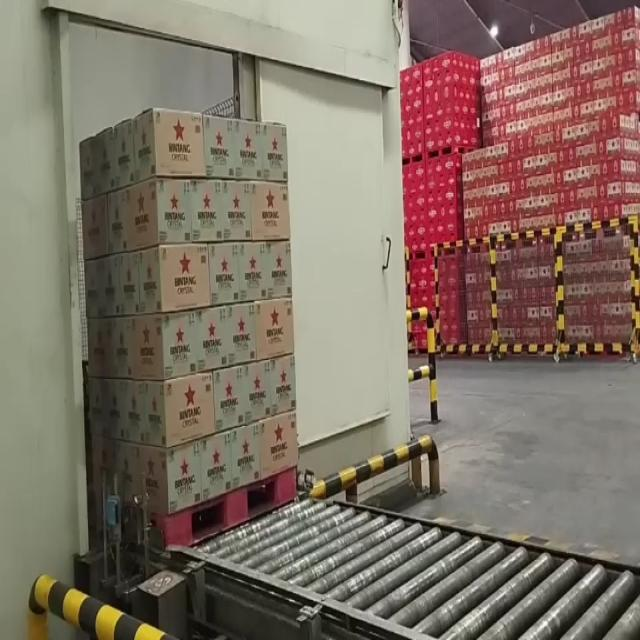pallet: (78, 98, 301, 560)
